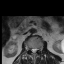CCS_normal: (33, 45, 35, 55)
LFS_stenosis: (37, 45, 39, 52)
LLS_normal: (35, 45, 37, 53)
RFS_stenosis: (29, 46, 31, 52)
RLS_normal: (31, 46, 33, 53)
